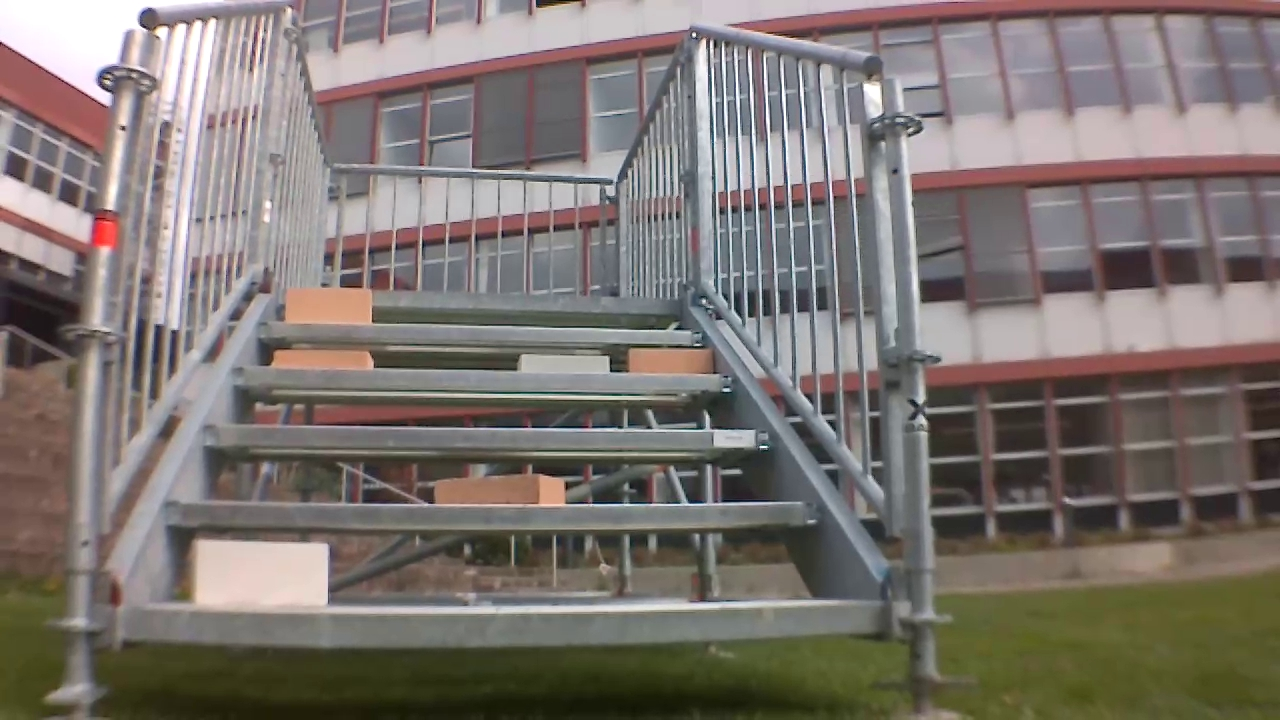brick: (186, 536, 334, 606), (420, 472, 573, 503), (281, 285, 374, 325), (267, 346, 379, 370), (513, 351, 609, 376), (624, 346, 716, 372)
edge: (109, 604, 891, 645), (160, 494, 825, 529), (196, 428, 775, 452), (222, 369, 734, 394), (254, 321, 706, 348), (267, 289, 680, 315)
stairs: (76, 0, 947, 710)
steps: (89, 285, 882, 643)
